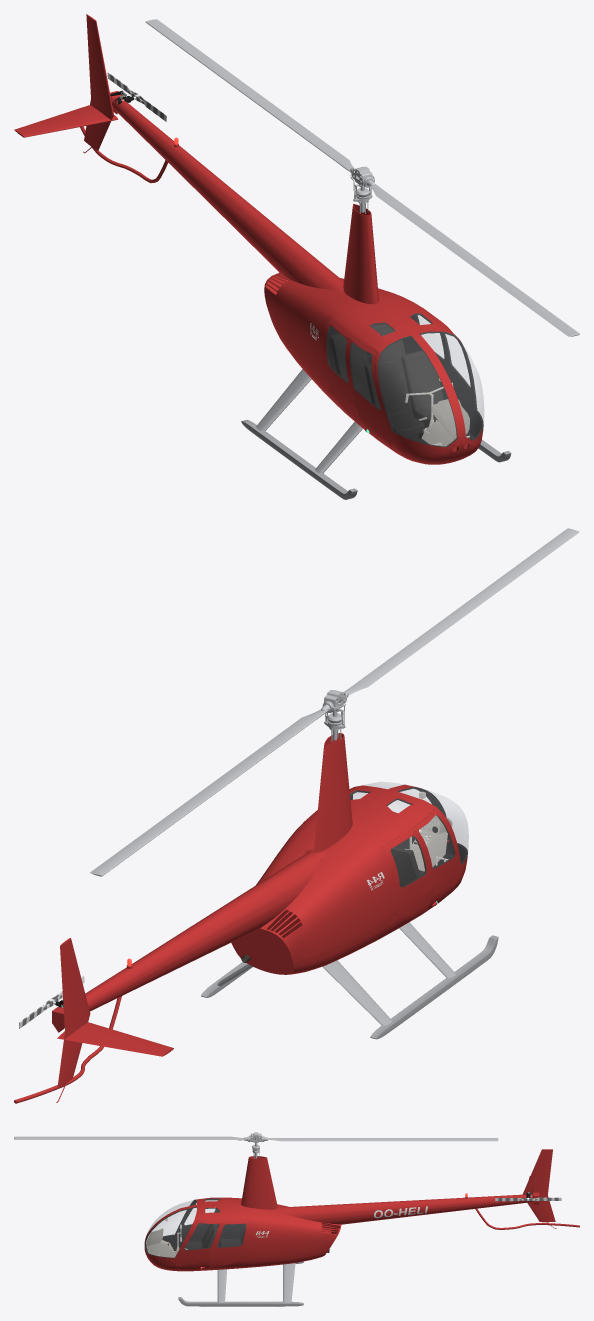
The model's file is r44_photoreal.glb.
3 renders of one model, top to bottom at view 1: azimuth 30°, elevation 25°; view 2: azimuth 150°, elevation 25°; view 3: azimuth 270°, elevation 25°, orthographic. The views are drawn at different scales.
Parts seen in each view (by area): view 1: fuselage, vitres, R44_MainRotor, derive, patins, seat.001_seat.mesh.001, seat_seat.mesh, porteBD, seat.003_seat.mesh.003, porteAD, panel_panel.mesh, vitreAD (+5 smaller); view 2: fuselage, R44_MainRotor, derive, patins, porteBD, vitres, vitreBD, porteAD, vitreAD, panel_panel.mesh, seat.001_seat.mesh.001; view 3: fuselage, R44_MainRotor, vitres, patins, derive, porteBG, porteAG, vitreAG, panel_panel.mesh, vitreBG, intporteAD_intporteAD.mesh, intporteBD_intporteBD.mesh (+5 smaller).
Boxes of the visible parts, left/top/right/bottom form: fuselage: left=110, top=91, right=483, bottom=464; vitres: left=370, top=313, right=483, bottom=446; R44_MainRotor: left=145, top=19, right=579, bottom=336; derive: left=14, top=14, right=117, bottom=150; patins: left=241, top=369, right=511, bottom=499; seat.001_seat.mesh.001: left=364, top=358, right=424, bottom=438; seat_seat.mesh: left=401, top=350, right=443, bottom=427; porteBD: left=322, top=317, right=360, bottom=425; seat.003_seat.mesh.003: left=329, top=333, right=371, bottom=402; porteAD: left=348, top=336, right=393, bottom=444; panel_panel.mesh: left=421, top=399, right=469, bottom=446; vitreAD: left=350, top=342, right=380, bottom=409; fuselage: left=52, top=733, right=467, bottom=1032; R44_MainRotor: left=90, top=528, right=579, bottom=876; derive: left=57, top=938, right=173, bottom=1088; patins: left=201, top=922, right=498, bottom=1039; porteBD: left=382, top=829, right=432, bottom=916; vitres: left=350, top=782, right=468, bottom=864; vitreBD: left=391, top=836, right=425, bottom=886; porteAD: left=413, top=808, right=460, bottom=890; vitreAD: left=419, top=815, right=454, bottom=868; panel_panel.mesh: left=412, top=815, right=452, bottom=871; seat.001_seat.mesh.001: left=391, top=847, right=424, bottom=886; fuselage: left=144, top=1156, right=539, bottom=1271; R44_MainRotor: left=14, top=1132, right=498, bottom=1158; vitres: left=145, top=1199, right=219, bottom=1257; patins: left=178, top=1261, right=303, bottom=1306; derive: left=522, top=1149, right=555, bottom=1222; porteBG: left=209, top=1220, right=249, bottom=1268; porteAG: left=175, top=1220, right=222, bottom=1266; vitreAG: left=184, top=1223, right=218, bottom=1250; panel_panel.mesh: left=146, top=1228, right=177, bottom=1257; vitreBG: left=218, top=1224, right=245, bottom=1247; intporteAD_intporteAD.mesh: left=175, top=1199, right=219, bottom=1243; intporteBD_intporteBD.mesh: left=216, top=1210, right=246, bottom=1243.
Size of the model in its own units: 2.39 by 3.46 by 11.78.
24 materials, 14 textured.
